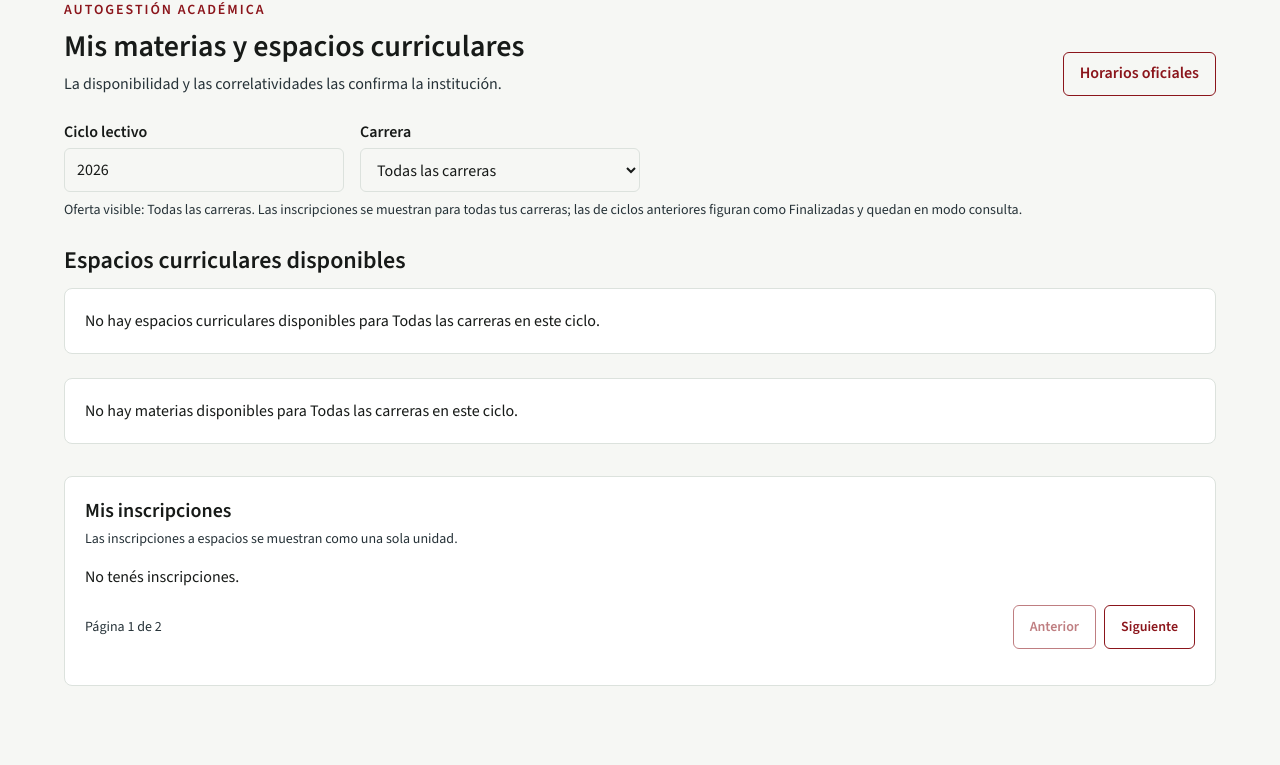
Test: SubjectEnrollmentsView › loads the next enrollment page and returns to the last valid page after dropping its only row
Click the button with aria-label "Página siguiente". click: (1150,627)
box: [1104,605,1195,649]
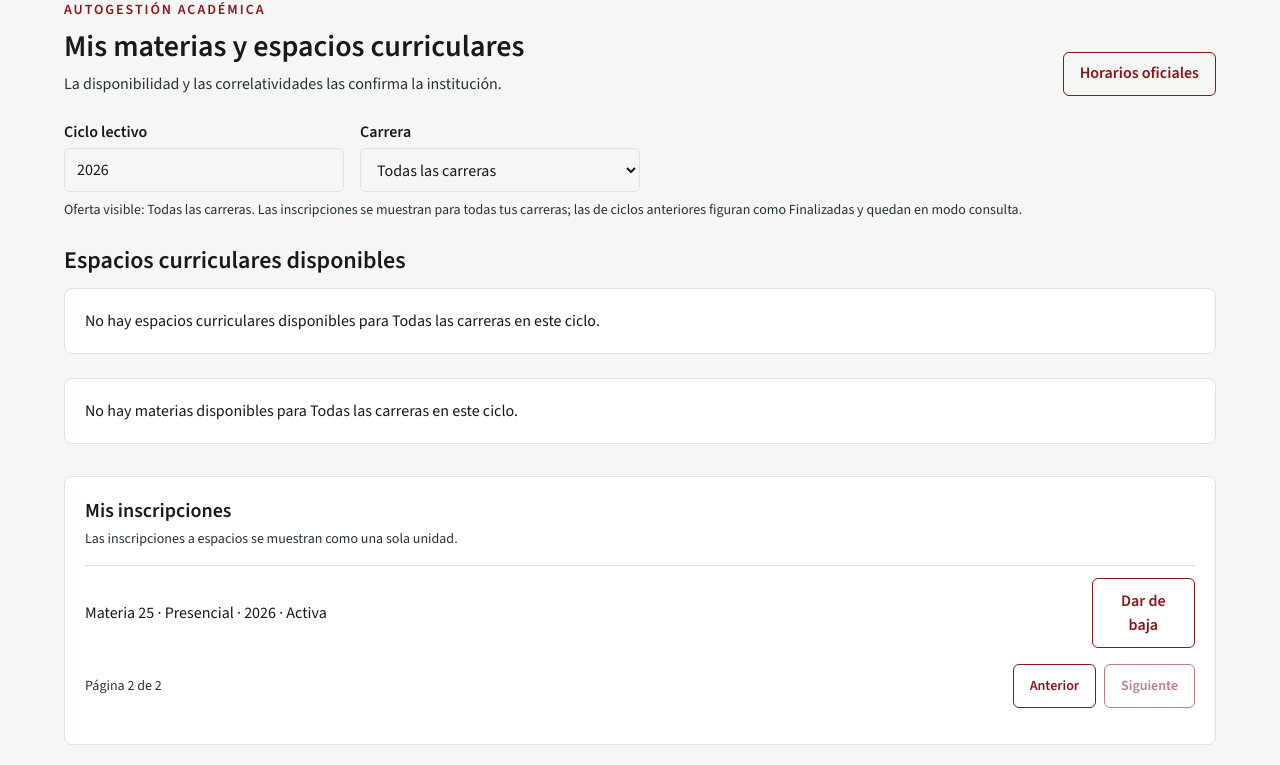
Result: the text "Materia 25 · Presencial · 2026 · Activa" is shown at [85,602,327,623]
Click the button "Dar de baja". click: (1143,613)
box: [1092,578,1195,648]
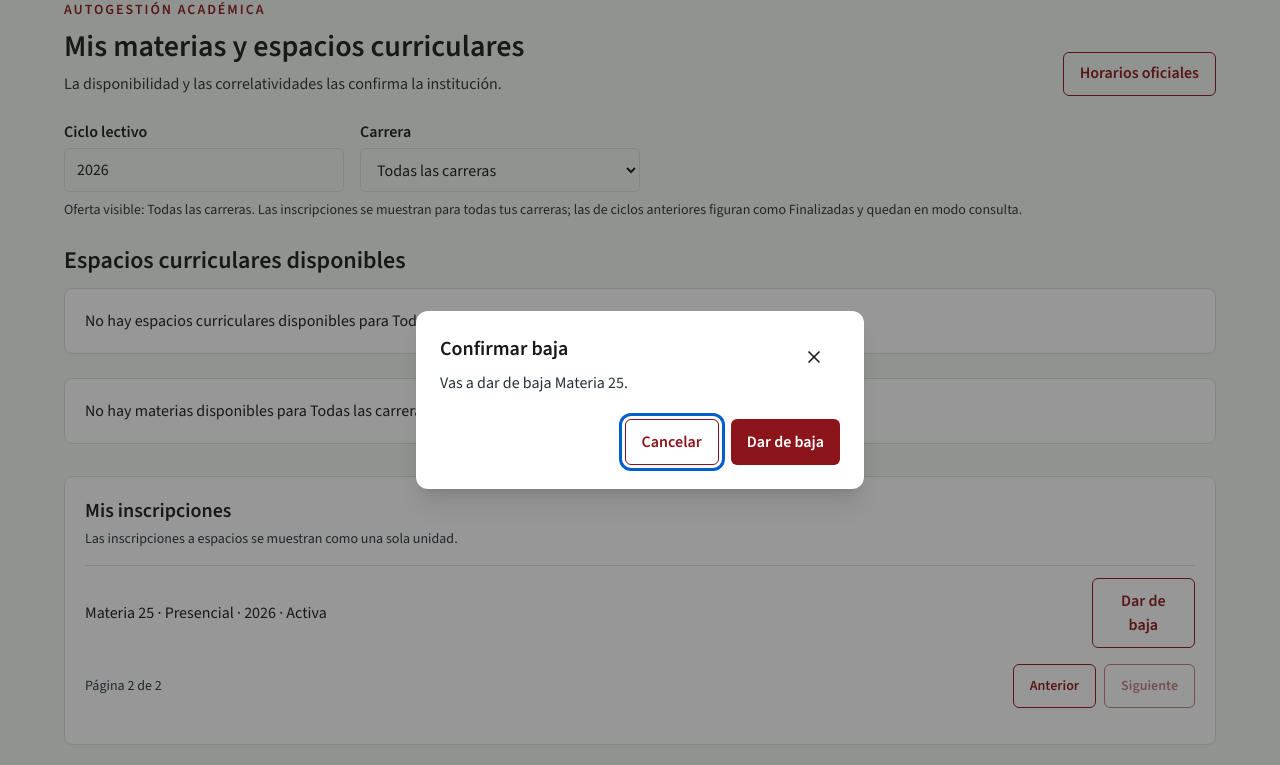
Click the button "Dar de baja". click: (785,442)
box: [731,419,840,465]
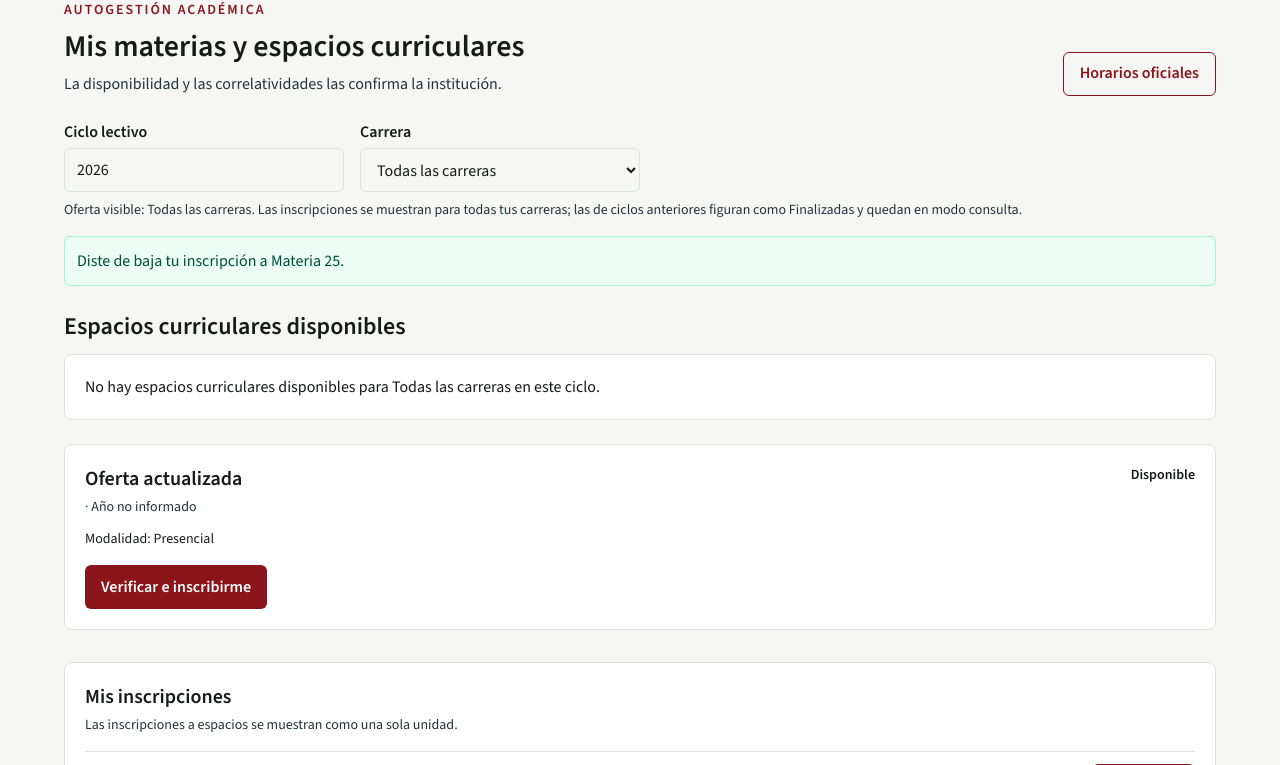
Result: the heading "Oferta actualizada" is shown at [85,465,242,492]
